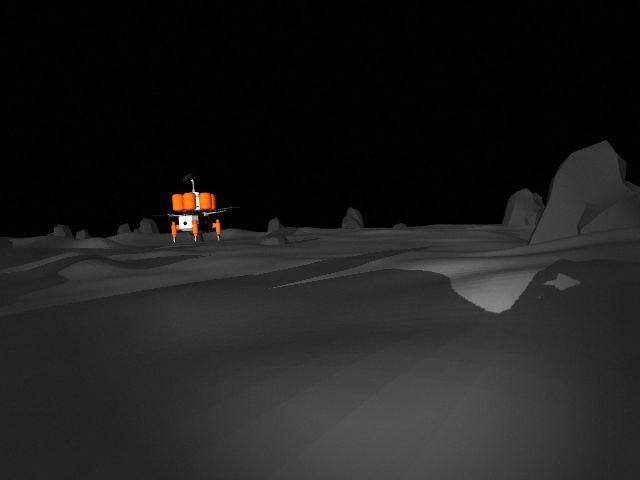homebase: (147, 170, 240, 243)
